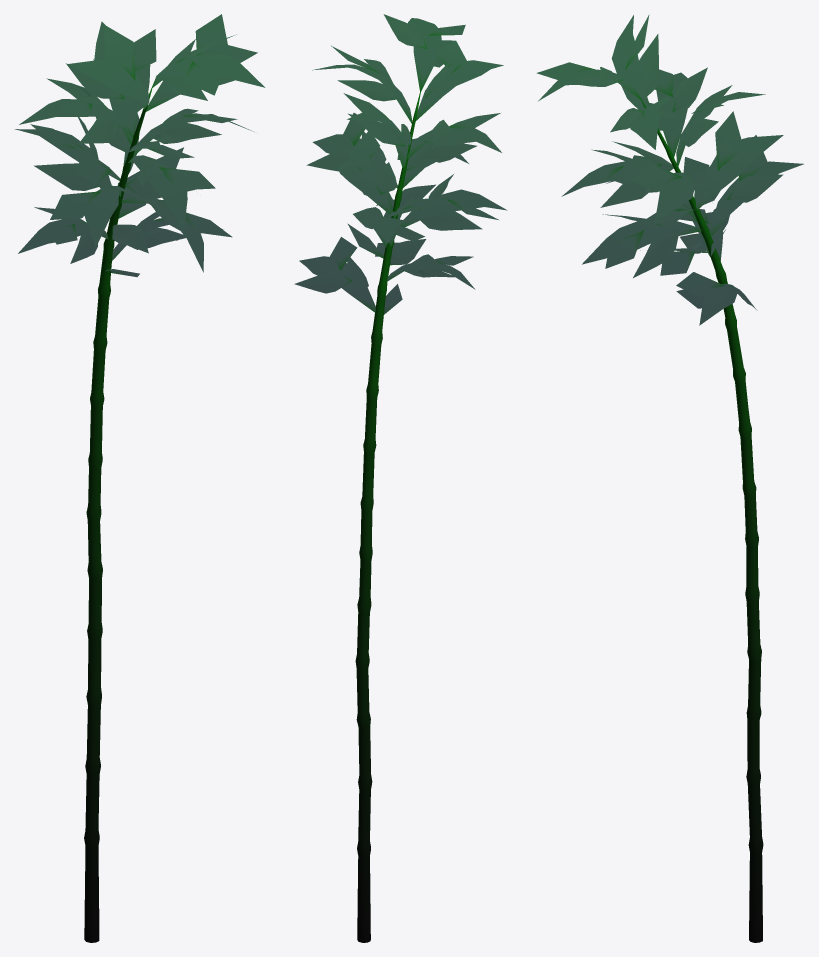
The model's file is TSI_Bamboo_06A.fbx.
The picture shows the model from 3 angles, left to right: view 1: azimuth 30°, elevation 25°; view 2: azimuth 150°, elevation 25°; view 3: azimuth 270°, elevation 25°; orthographic projection. The views are drawn at different scales.
Visible parts, largest first — view 1: TSI_Bamboo_06A_LOD0; view 2: TSI_Bamboo_06A_LOD0; view 3: TSI_Bamboo_06A_LOD0.
Part boxes in pixels (x1,y1,x2,y2): TSI_Bamboo_06A_LOD0: (14, 14, 265, 942); TSI_Bamboo_06A_LOD0: (294, 14, 507, 942); TSI_Bamboo_06A_LOD0: (536, 14, 803, 942).
Size of the model in its own units: 207 by 845 by 227.
